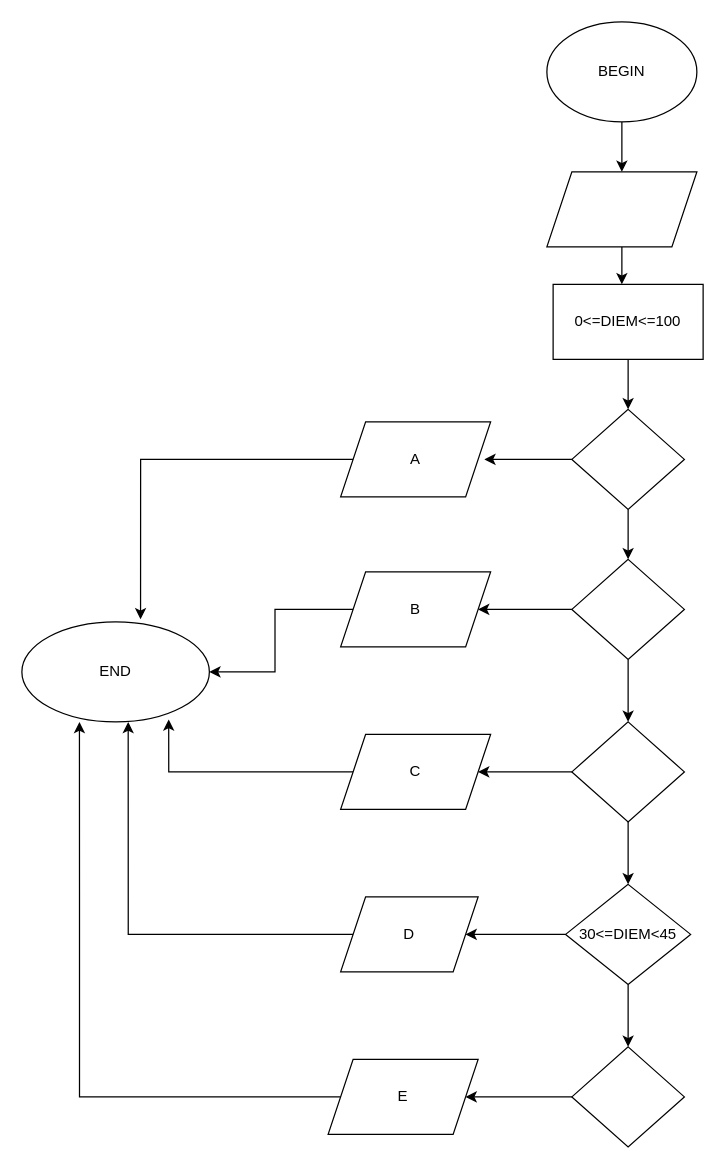
The diagram is 725 pixels wide and 1169 high, and some of its shapes have lost their labels. Here are the shapes that lost their labels. From the top down, the centre of each, then its label:
At point 621,209: "INPUT DIEM".
At point 627,458: "DIEM>=75".
At point 627,608: "60<=DIEM>=75".
At point 627,771: "45<=DIEM<60".
At point 627,1096: "DIEM<30".
